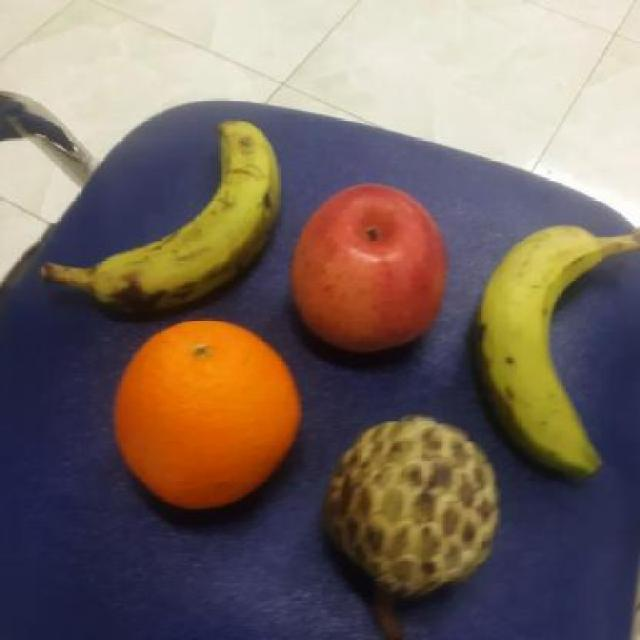apple: (284, 179, 454, 356)
banana: (92, 114, 286, 317), (474, 225, 611, 480)
oren: (108, 317, 300, 512)
sugar apple: (319, 413, 498, 590)
